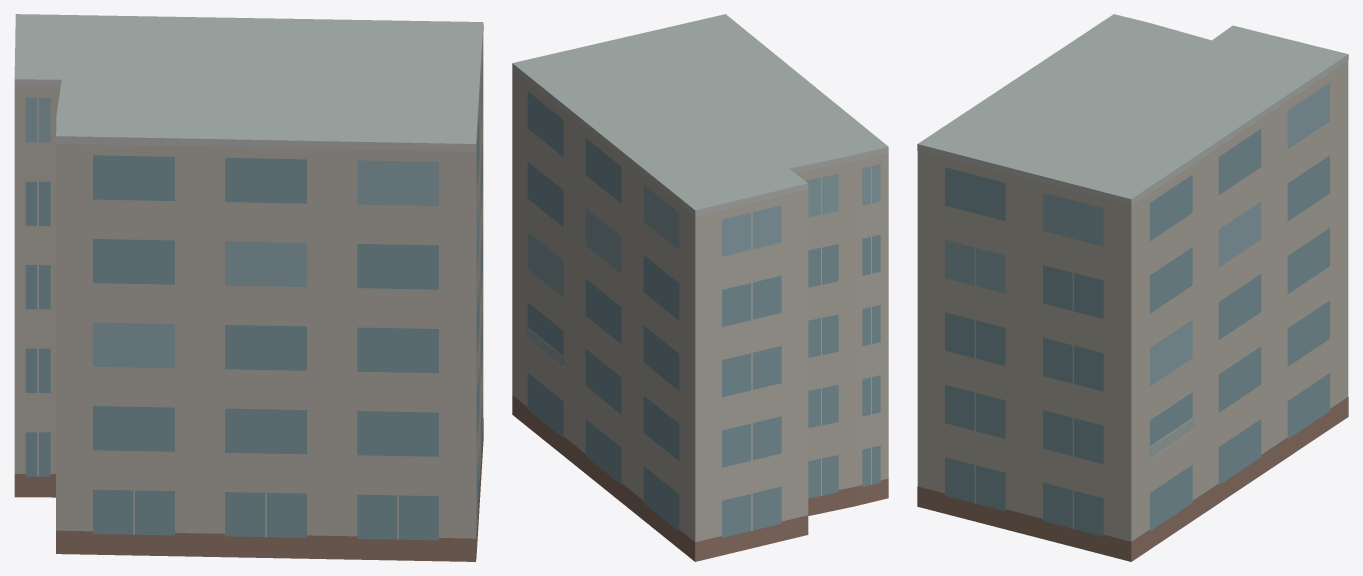
The model's file is survey-upis-32941066.glb.
3 renders of one model, left to right at view 1: azimuth 30°, elevation 25°; view 2: azimuth 150°, elevation 25°; view 3: azimuth 270°, elevation 25°, orthographic. The views are drawn at different scales.
Visible parts, largest first — view 1: survey-upis-32941066.tmp; view 2: survey-upis-32941066.tmp; view 3: survey-upis-32941066.tmp.
Part boxes in pixels (left/top/right/bottom): survey-upis-32941066.tmp: left=14, top=14, right=483, bottom=561; survey-upis-32941066.tmp: left=512, top=14, right=888, bottom=561; survey-upis-32941066.tmp: left=917, top=14, right=1348, bottom=561.
Bounding box in the file's own units: 14.84 × 13.54 × 14.59.
